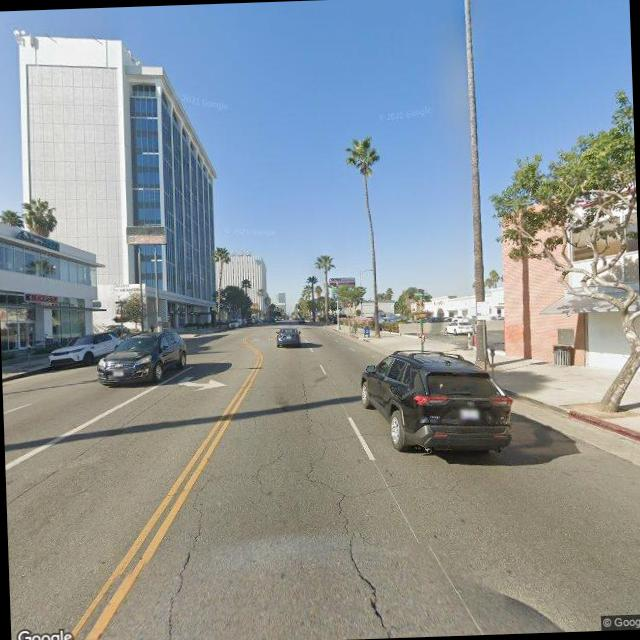crack: (254, 407, 409, 638)
pothole: (154, 473, 215, 640), (294, 368, 314, 435)
